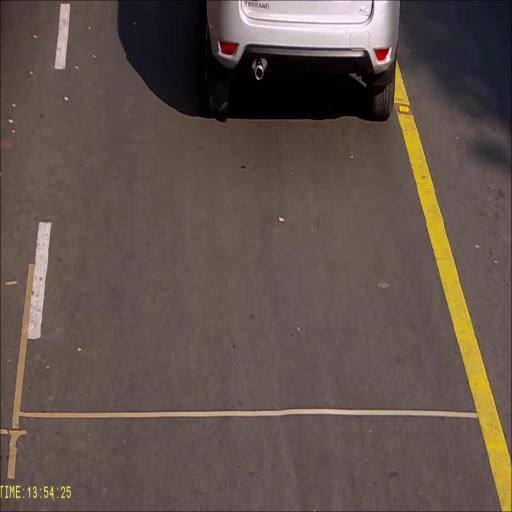Vehicle: (206, 0, 400, 122)
